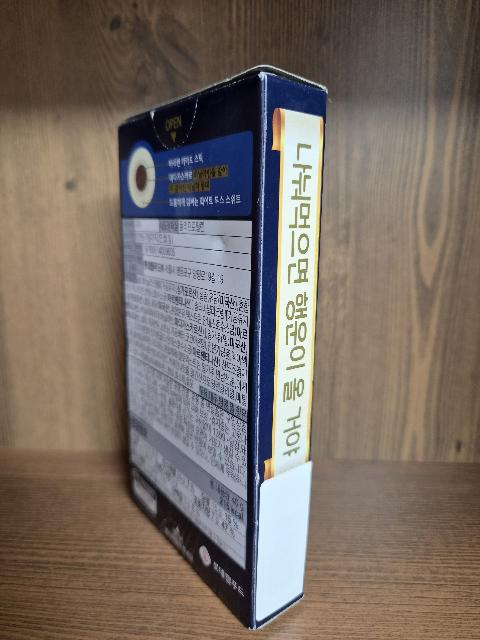pepero: (118, 64, 328, 630)
